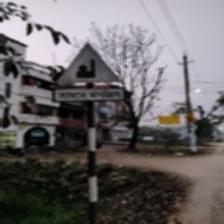Mosque in front: (53, 38, 125, 104)
